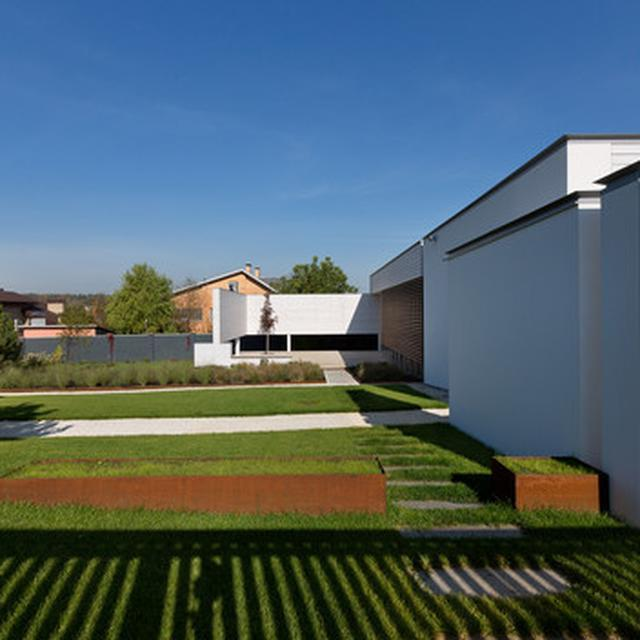building: (365, 137, 640, 502), (124, 257, 300, 343)
